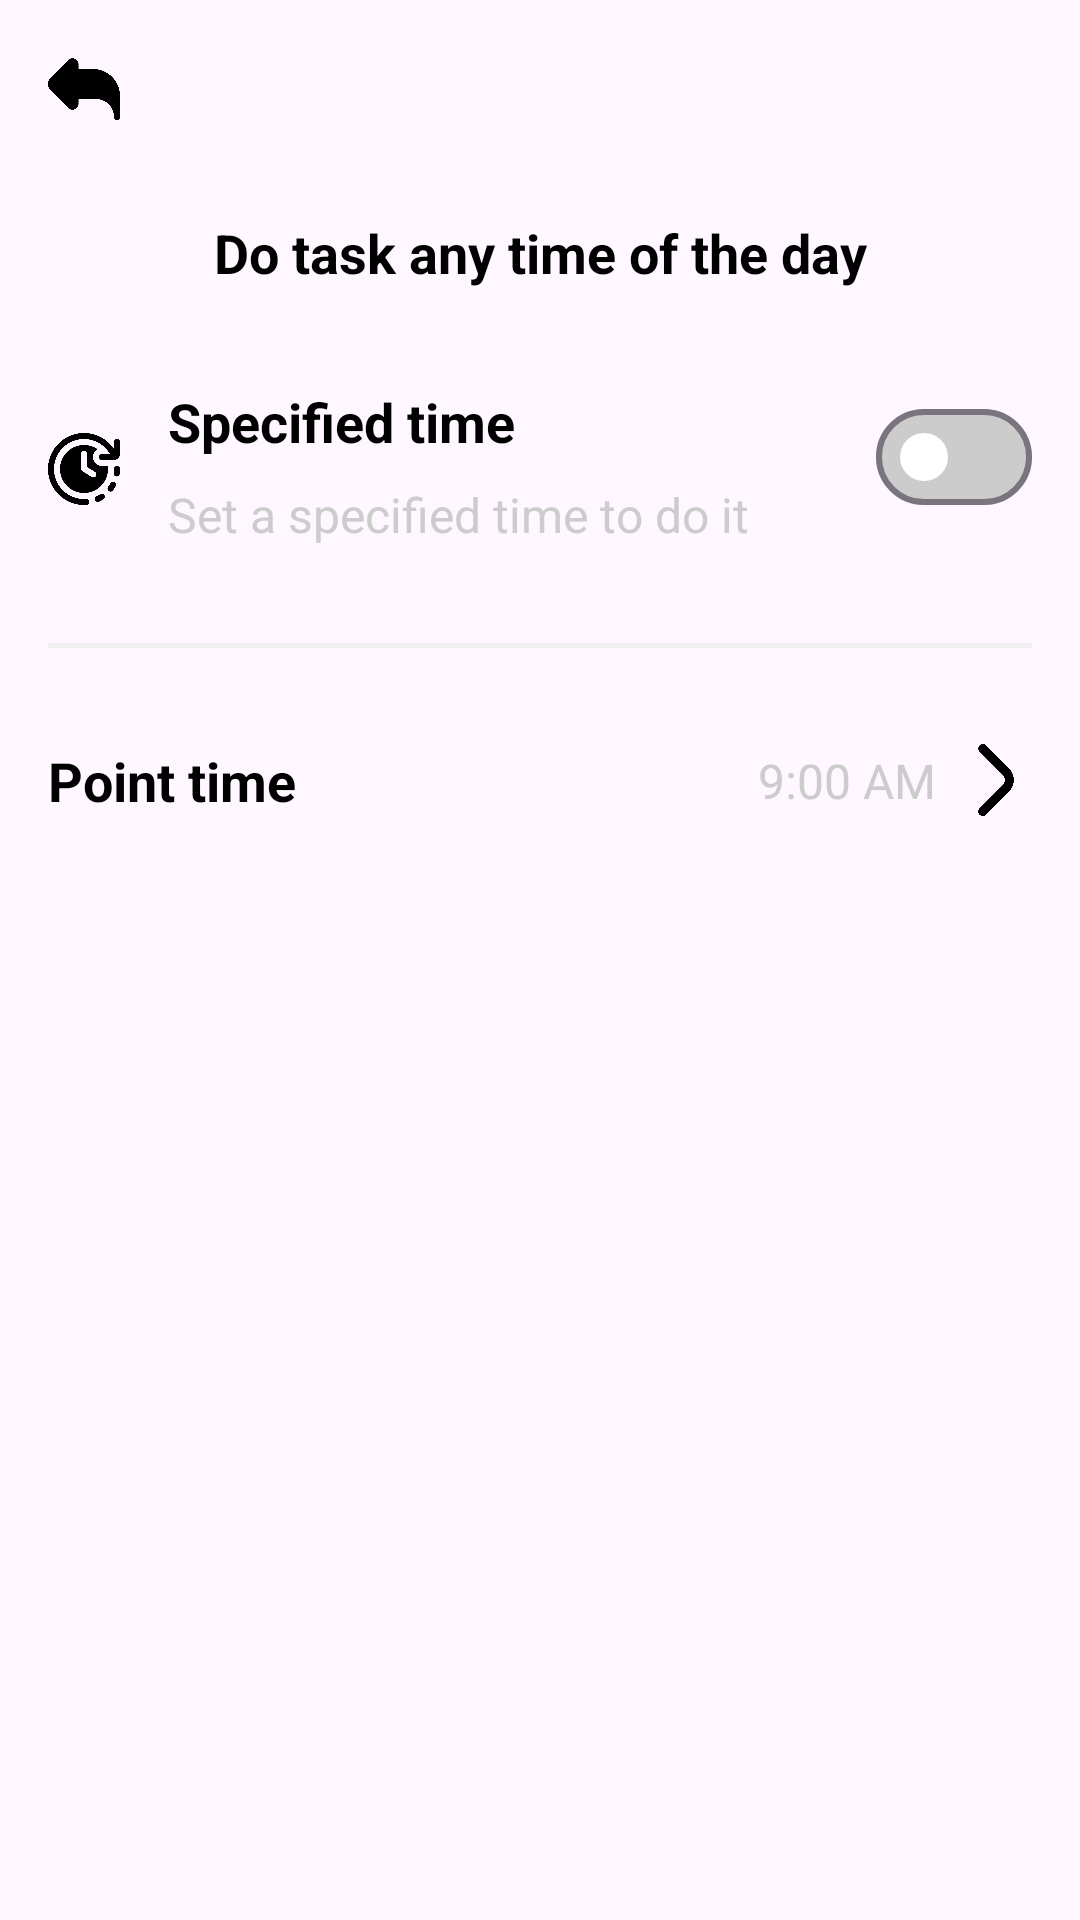

Screen size 1080 × 1920. Icon name, then its center in pixels as [x,y]:
back: [84,89]
